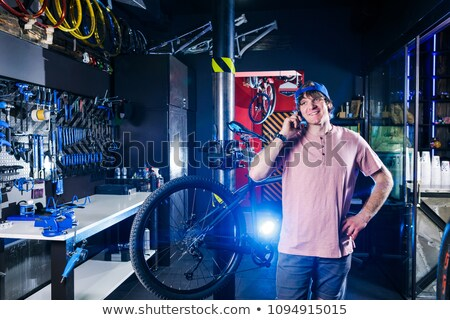phone: (290, 111, 304, 137)
talk: (278, 97, 328, 141)
